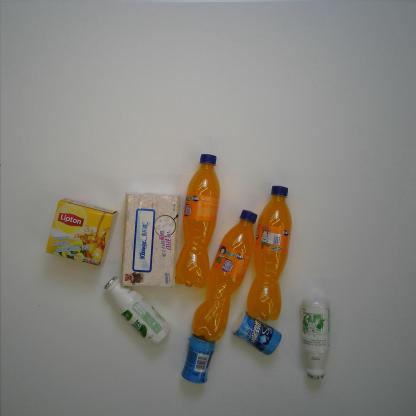Drink: (191, 209, 258, 343), (174, 152, 221, 289), (246, 185, 293, 321)
Gum: (230, 310, 282, 356), (181, 334, 216, 385)
Instant Drink: (44, 198, 118, 266)
Milk: (103, 275, 171, 345), (300, 295, 331, 380)
Tissue: (119, 192, 181, 290)
